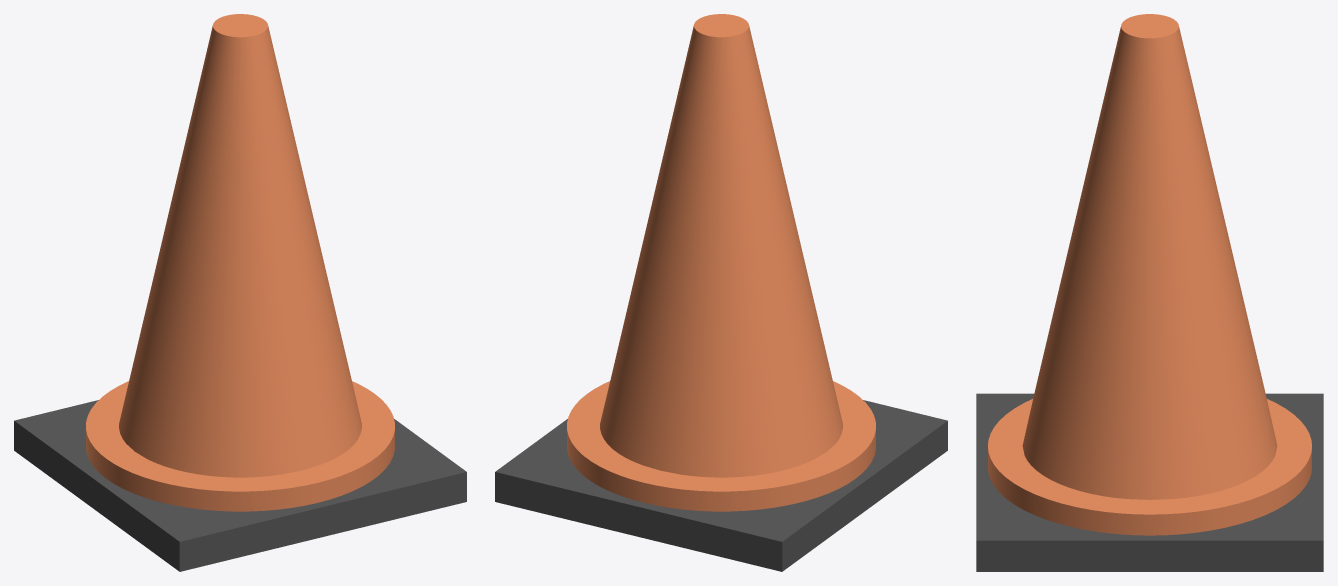
3 views of the same model, side by side, from view 1: azimuth 30°, elevation 25°; view 2: azimuth 150°, elevation 25°; view 3: azimuth 270°, elevation 25° (orthographic). The views are drawn at different scales.
Parts seen in each view (by area): view 1: Cone_Body, Cone_Base, Cone_Flange; view 2: Cone_Body, Cone_Base, Cone_Flange; view 3: Cone_Body, Cone_Base, Cone_Flange.
Part boxes in pixels (x1=…): Cone_Body: x1=119, y1=14, x2=361, y2=477; Cone_Base: x1=14, y1=400, x2=466, y2=571; Cone_Flange: x1=86, y1=381, x2=394, y2=511; Cone_Body: x1=600, y1=14, x2=842, y2=477; Cone_Base: x1=495, y1=400, x2=947, y2=571; Cone_Flange: x1=567, y1=381, x2=875, y2=511; Cone_Body: x1=1022, y1=14, x2=1277, y2=499; Cone_Base: x1=976, y1=393, x2=1323, y2=571; Cone_Flange: x1=988, y1=399, x2=1311, y2=535.
Bounding box in the file's own units: 0.3 × 0.45 × 0.3.
